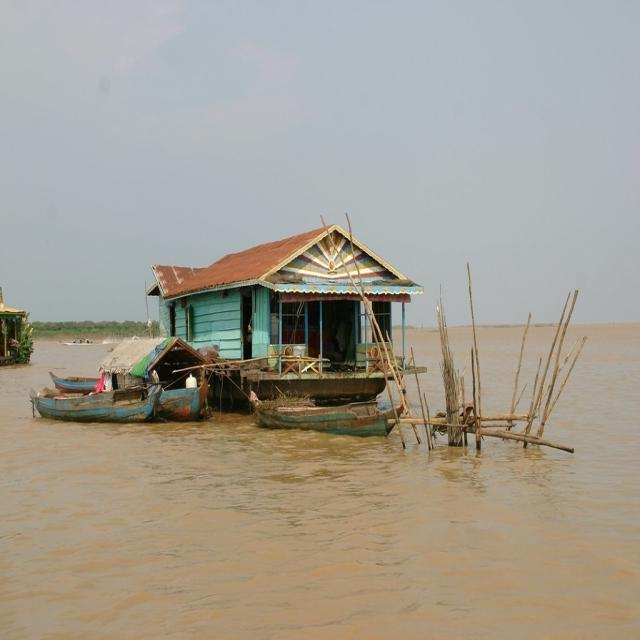boat: (19, 386, 158, 434), (254, 403, 409, 442), (58, 336, 109, 352)
